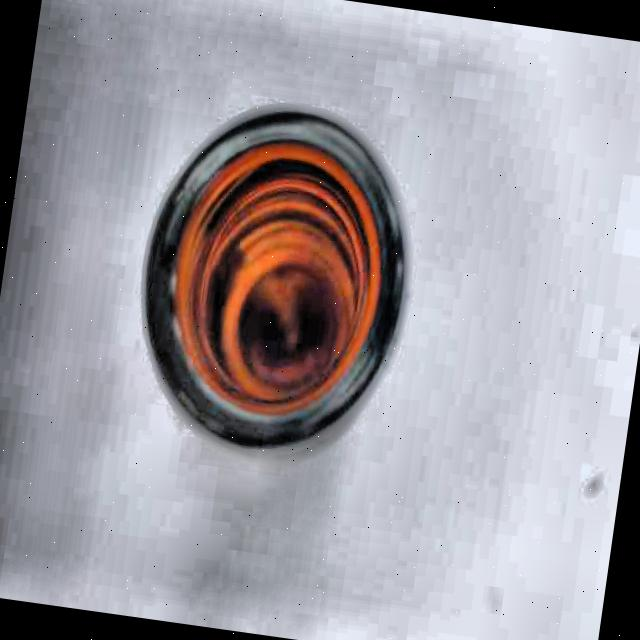glass: (123, 88, 434, 471)
